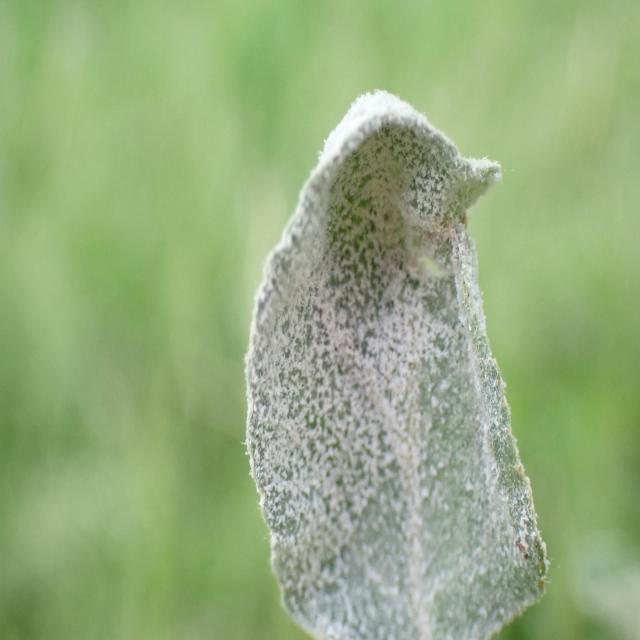Powdery_mildew: (198, 48, 562, 640)
